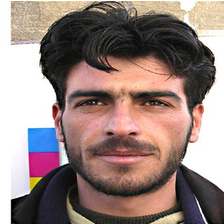no_mask: (66, 67, 190, 193)
